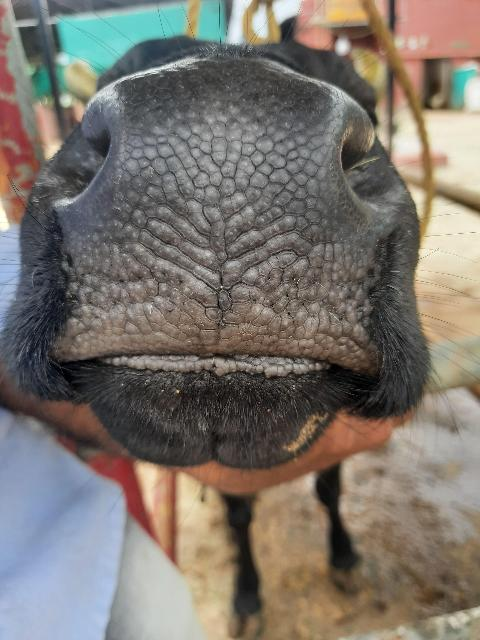Muzzle: (110, 78, 356, 352)
